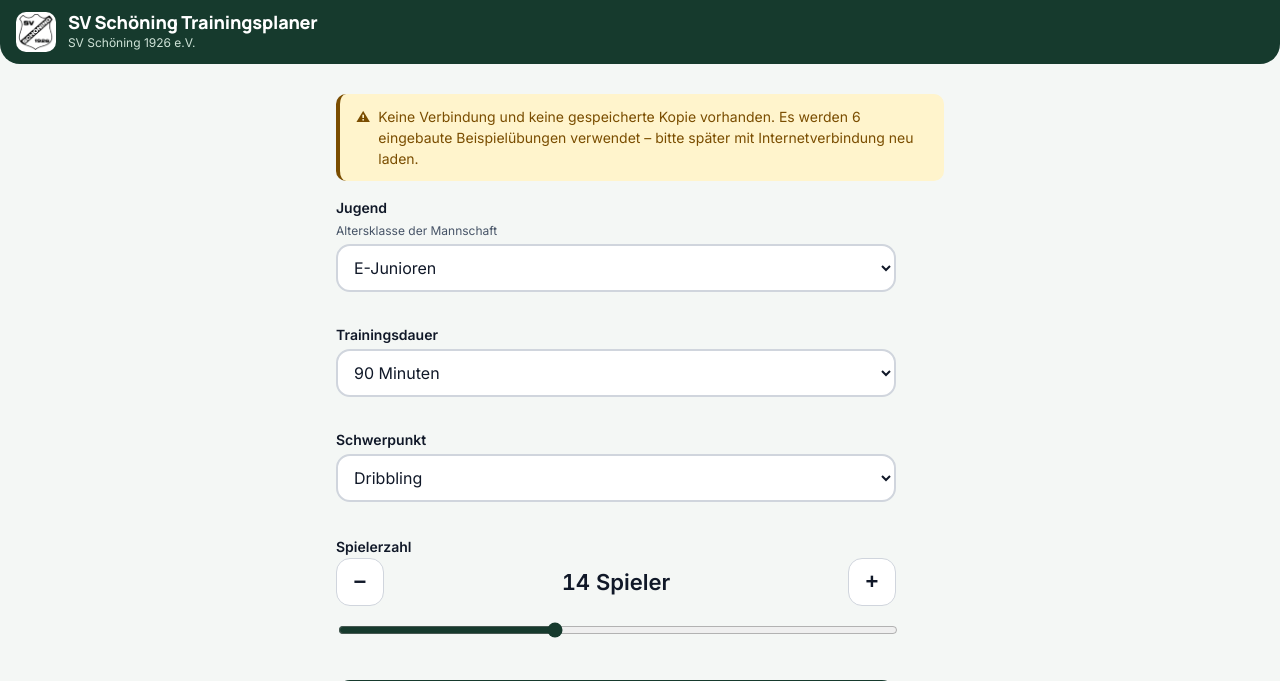
Scenario: Trainingsformular › Spielerzahl per Plus/Minus und Schieberegler bedienbar
Expected: the text "eingebaute Beispielübungen" is shown, [378,129,914,167]
Expected: the dropdown labelled "Jugend" is shown, [336,244,896,292]
Click the button named "erhöhen" at (872, 582), box [848,558,896,606]
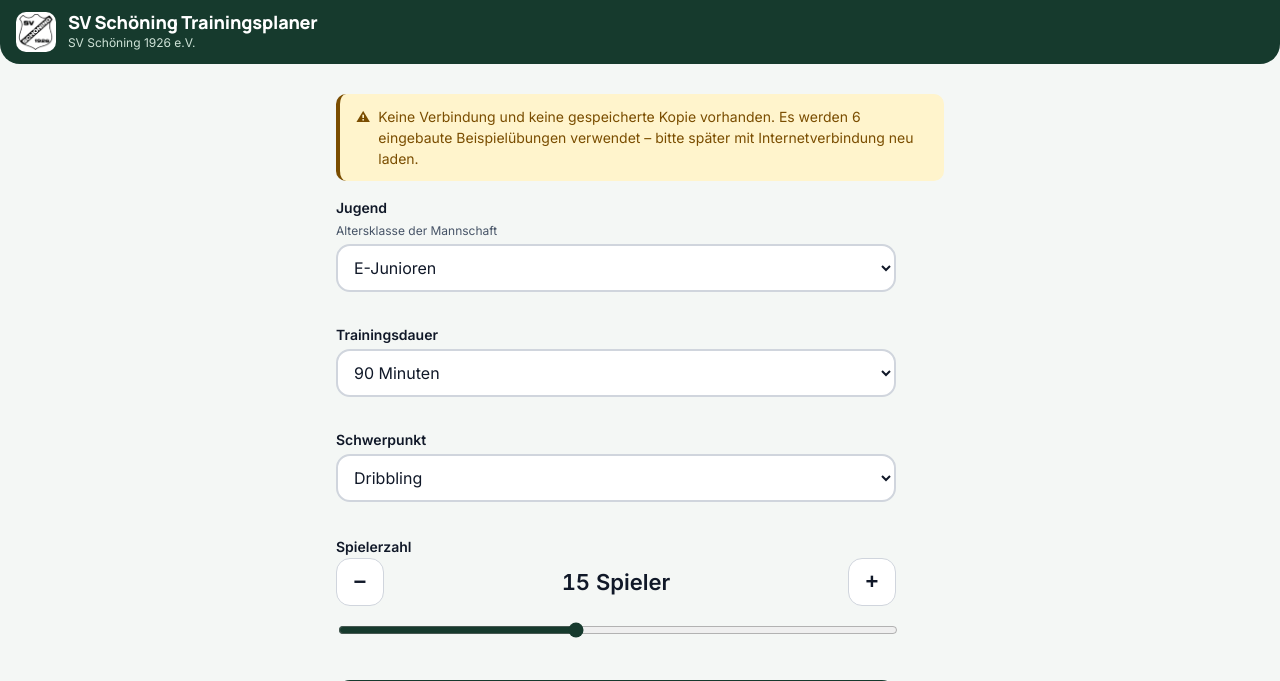
Expected: the text "15 Spieler" is shown, [562,568,670,594]
Set the slider to "8" at (430, 630), box [338,618,898,642]
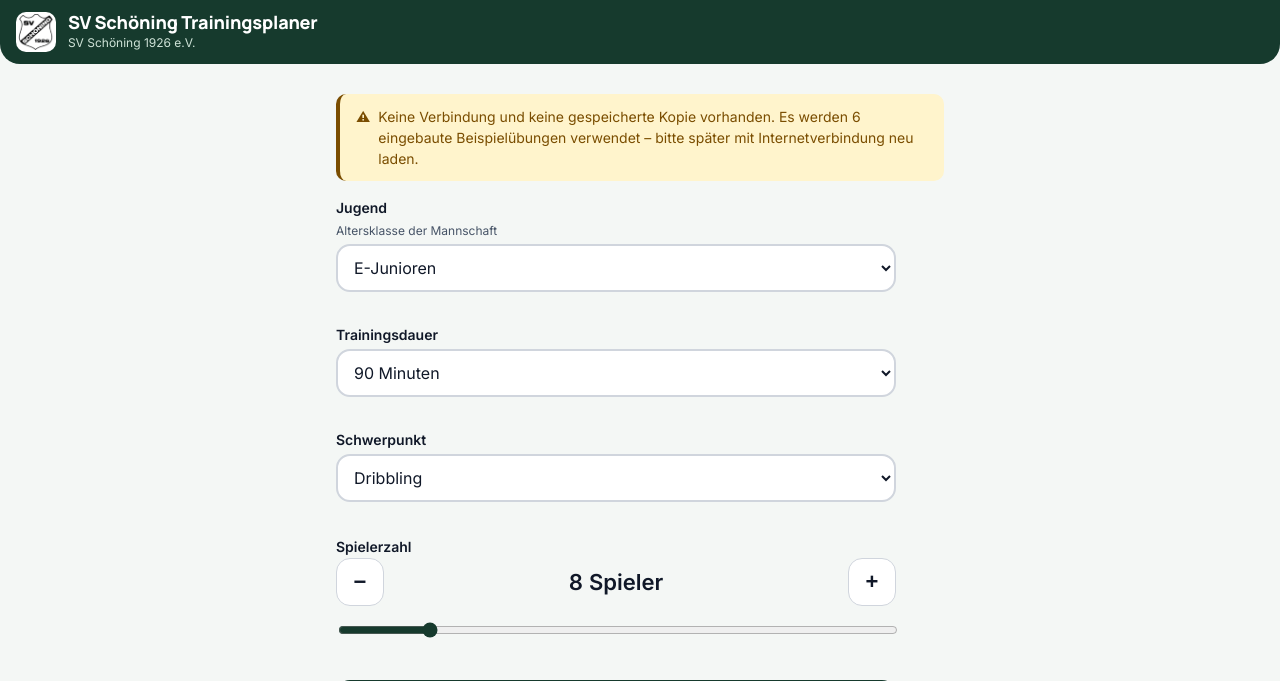
Expected: the text "8 Spieler" is shown, [569,568,663,594]
